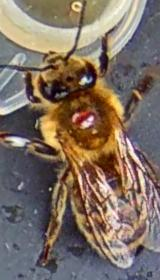varroa_mite: (66, 104, 105, 136)
